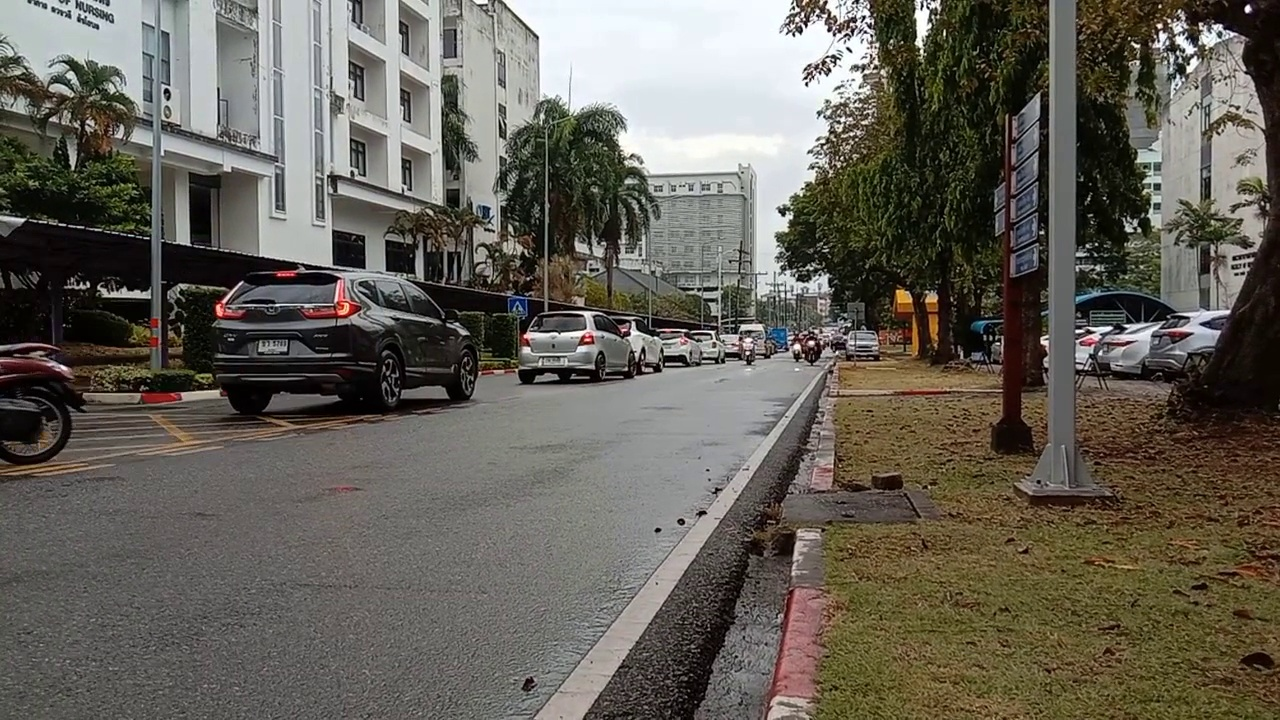License Plate: (256, 339, 290, 356), (537, 354, 561, 366)
